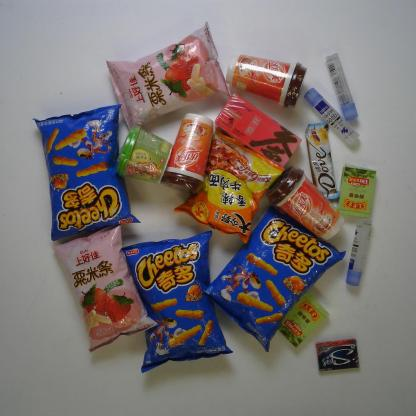Candy: (277, 290, 330, 348), (336, 162, 377, 219)
Chocolate: (304, 120, 340, 200)
Gum: (314, 337, 362, 372)
Instant Drink: (214, 93, 302, 168), (264, 165, 346, 242), (225, 51, 309, 109), (160, 112, 214, 196), (115, 124, 174, 186)
Instant Noodles: (173, 126, 286, 246)
Puffed Food: (203, 204, 346, 353), (121, 230, 234, 374), (30, 103, 142, 242), (105, 21, 233, 132), (52, 224, 159, 354)
Stationery: (304, 87, 361, 145), (325, 52, 359, 121), (345, 221, 373, 288)
